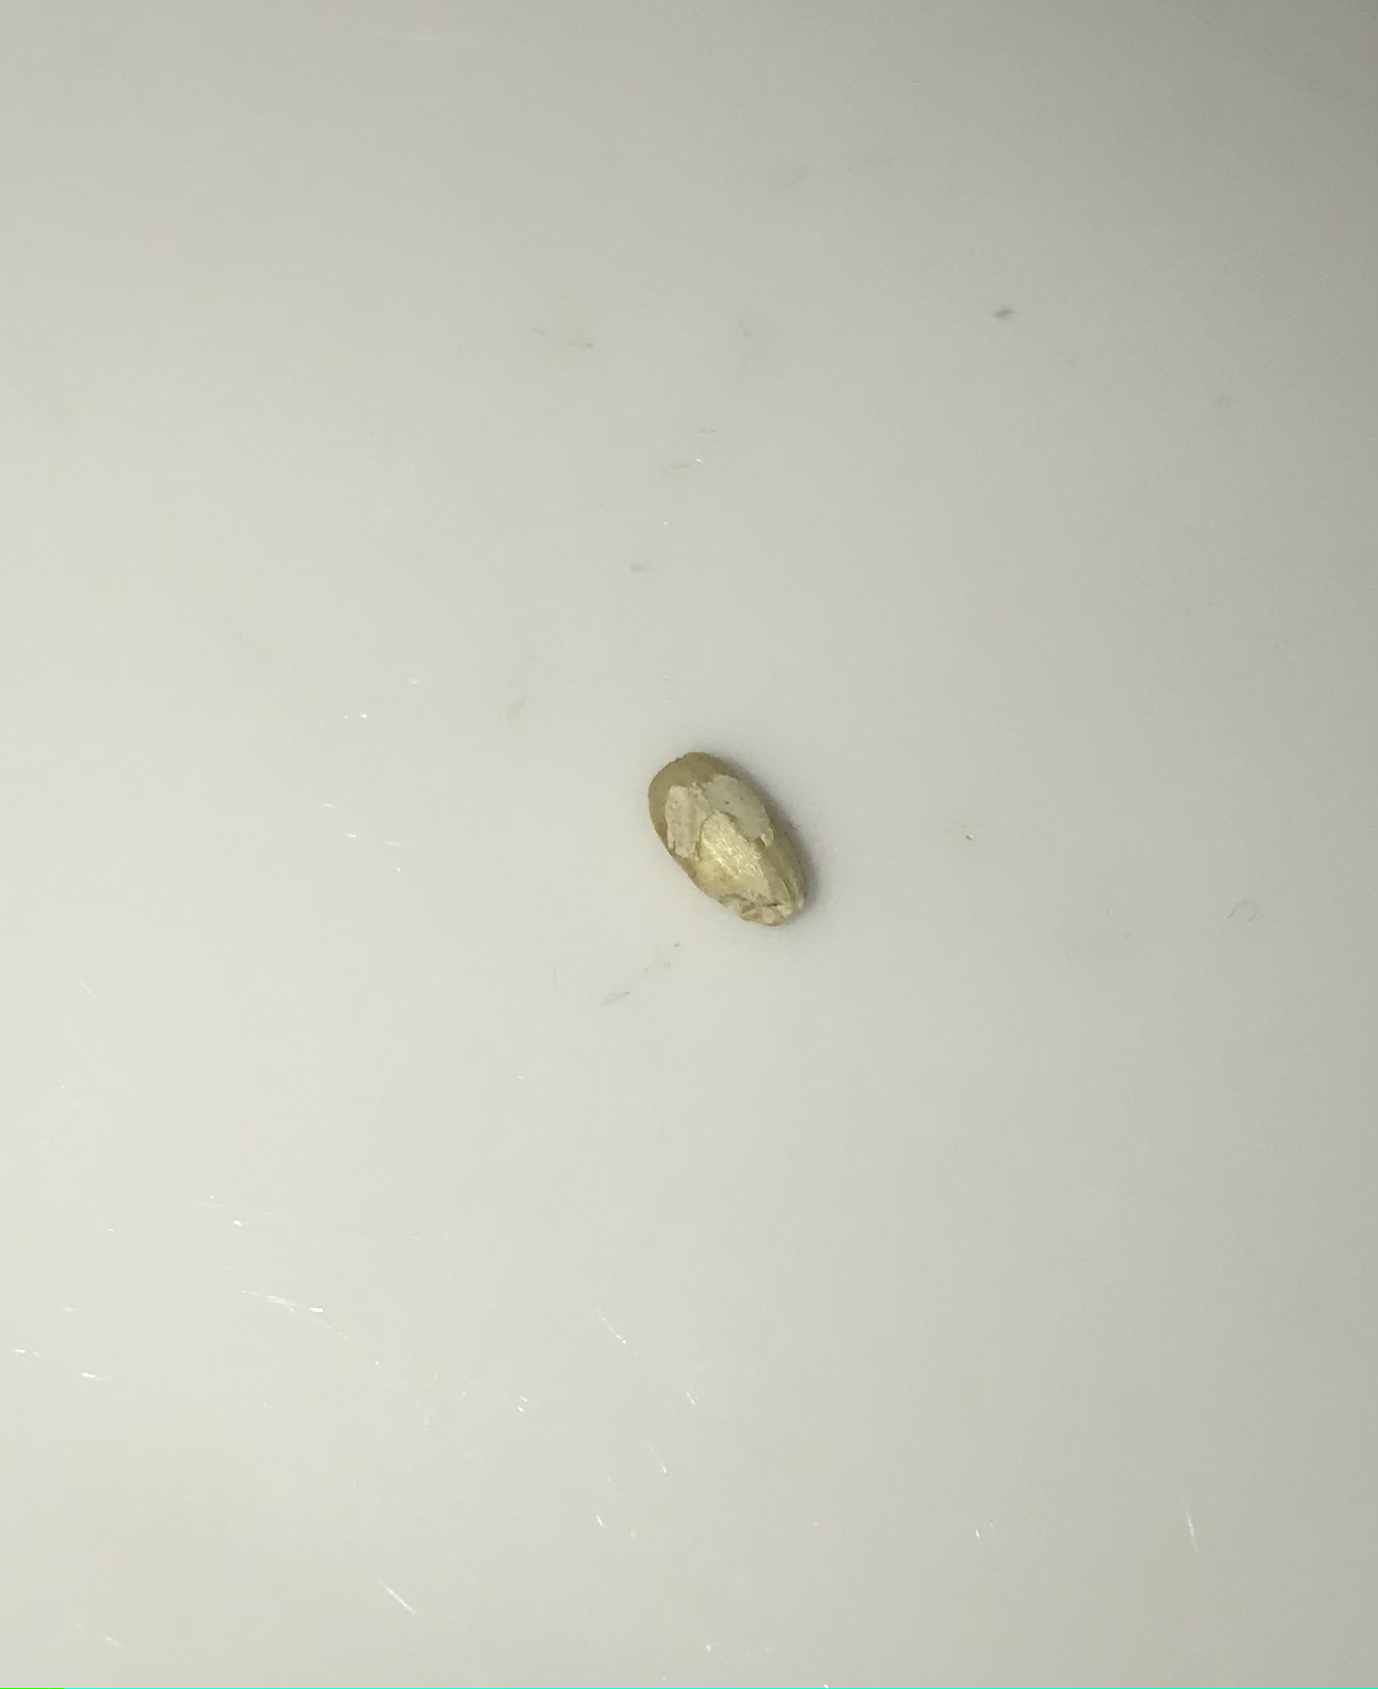Gao Lut Bac: (633, 720, 825, 938)
